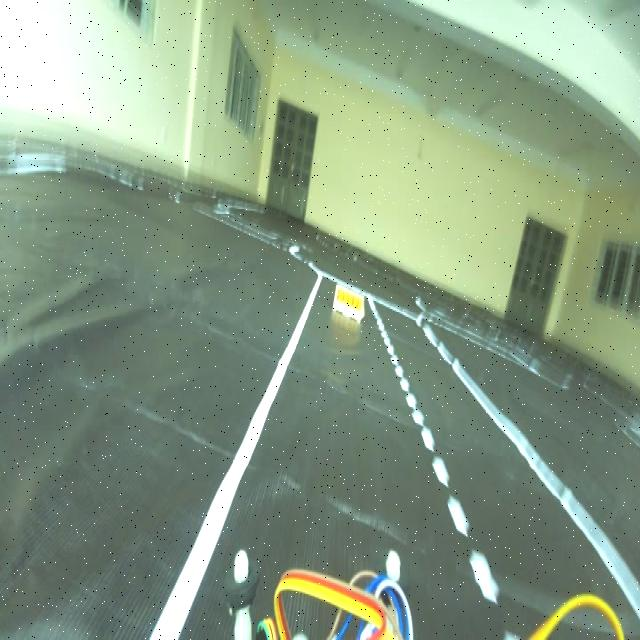roadblock: (330, 273, 367, 335)
